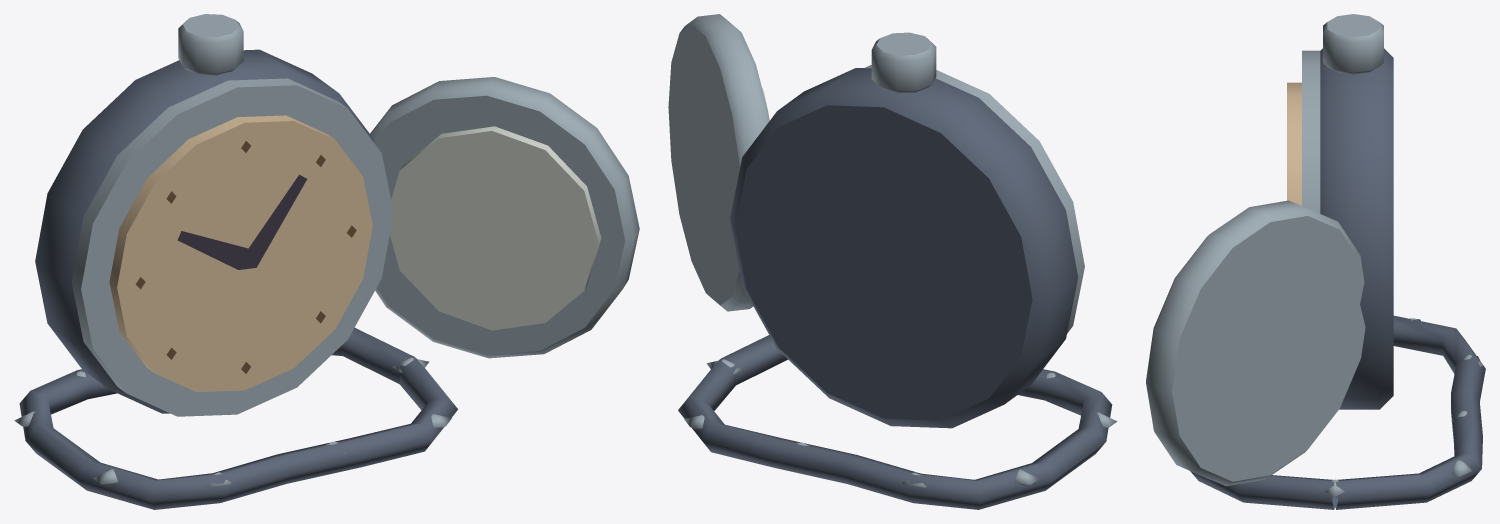
File: pocket_watch.glb
3 renders of one model, left to right at view 1: azimuth 30°, elevation 25°; view 2: azimuth 150°, elevation 25°; view 3: azimuth 270°, elevation 25°, orthographic. The views are drawn at different scales.
Visible parts, largest first — view 1: pocket_watch; view 2: pocket_watch; view 3: pocket_watch.
Part boxes in pixels (bbox=[...]): pocket_watch: bbox=[14, 14, 639, 509]; pocket_watch: bbox=[668, 14, 1117, 509]; pocket_watch: bbox=[1146, 14, 1485, 509].
Bounding box in the file's own units: 0.246 × 0.1887 × 0.1485.
